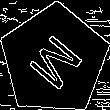M_SE: (21, 26, 87, 94)
